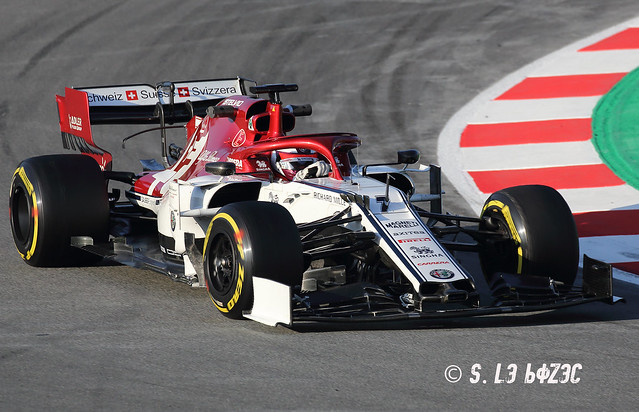F1 Car: (7, 74, 626, 331)
